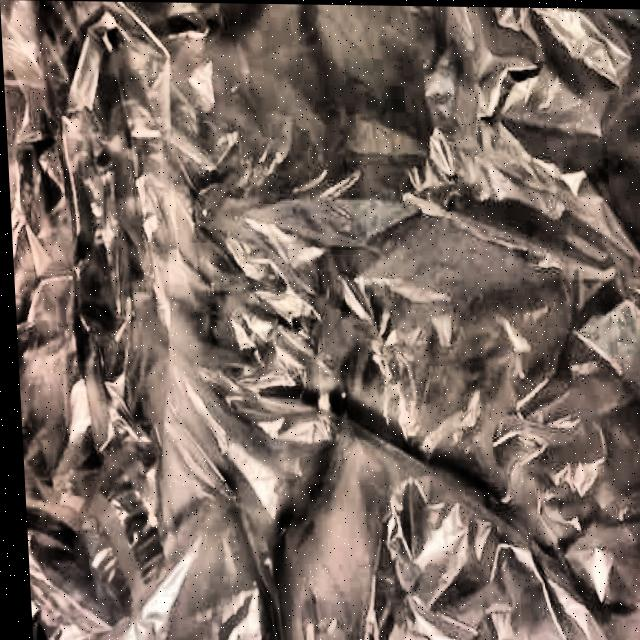plastic: (0, 5, 640, 640)
